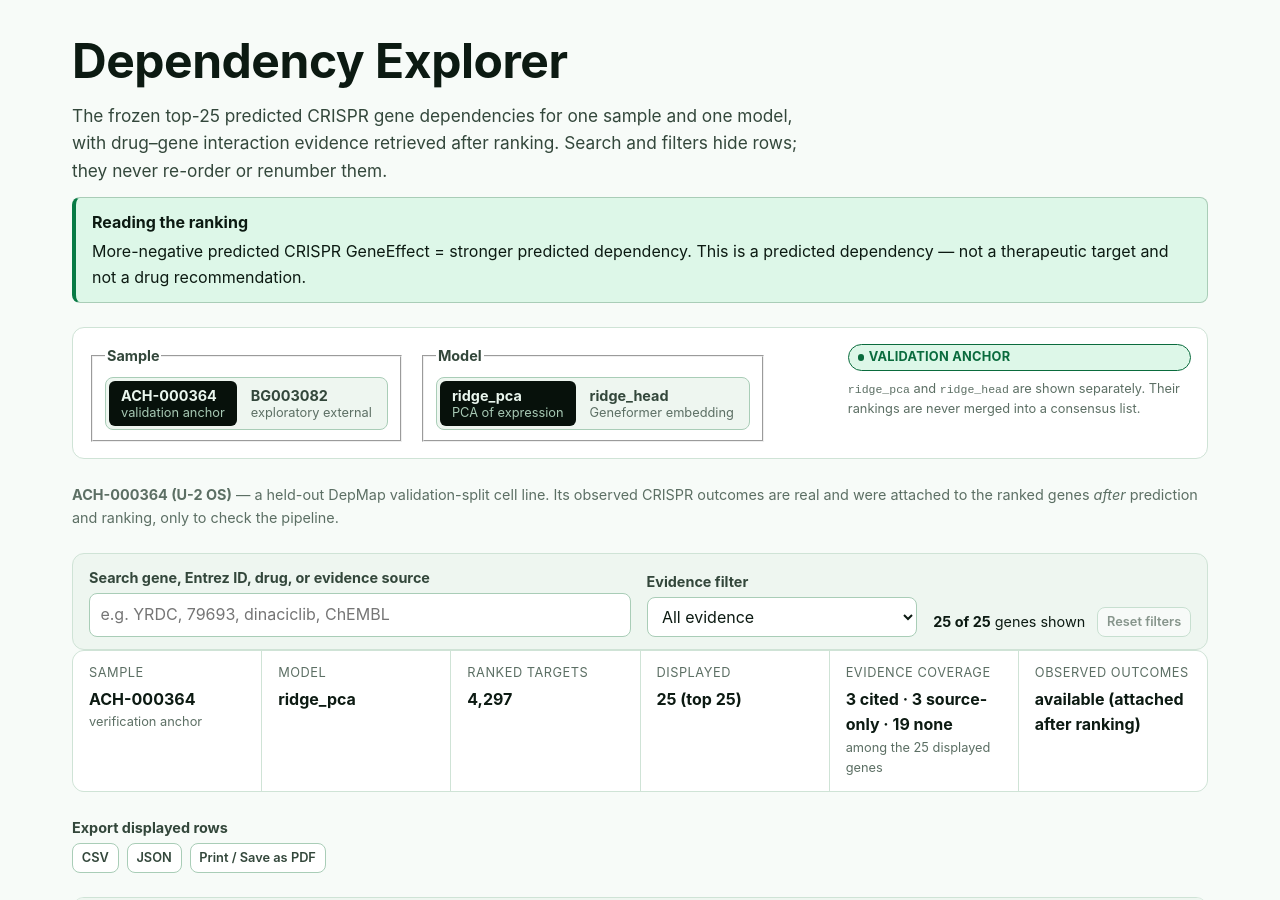
Test: Dependency Explorer › shows an accessible empty state when nothing matches
Step 1. Type "zzzznomatch" into the search field labelled "Search gene, Entrez ID, drug, or evidence source" → (360, 615), box [89, 594, 630, 637]
(page scrolled)
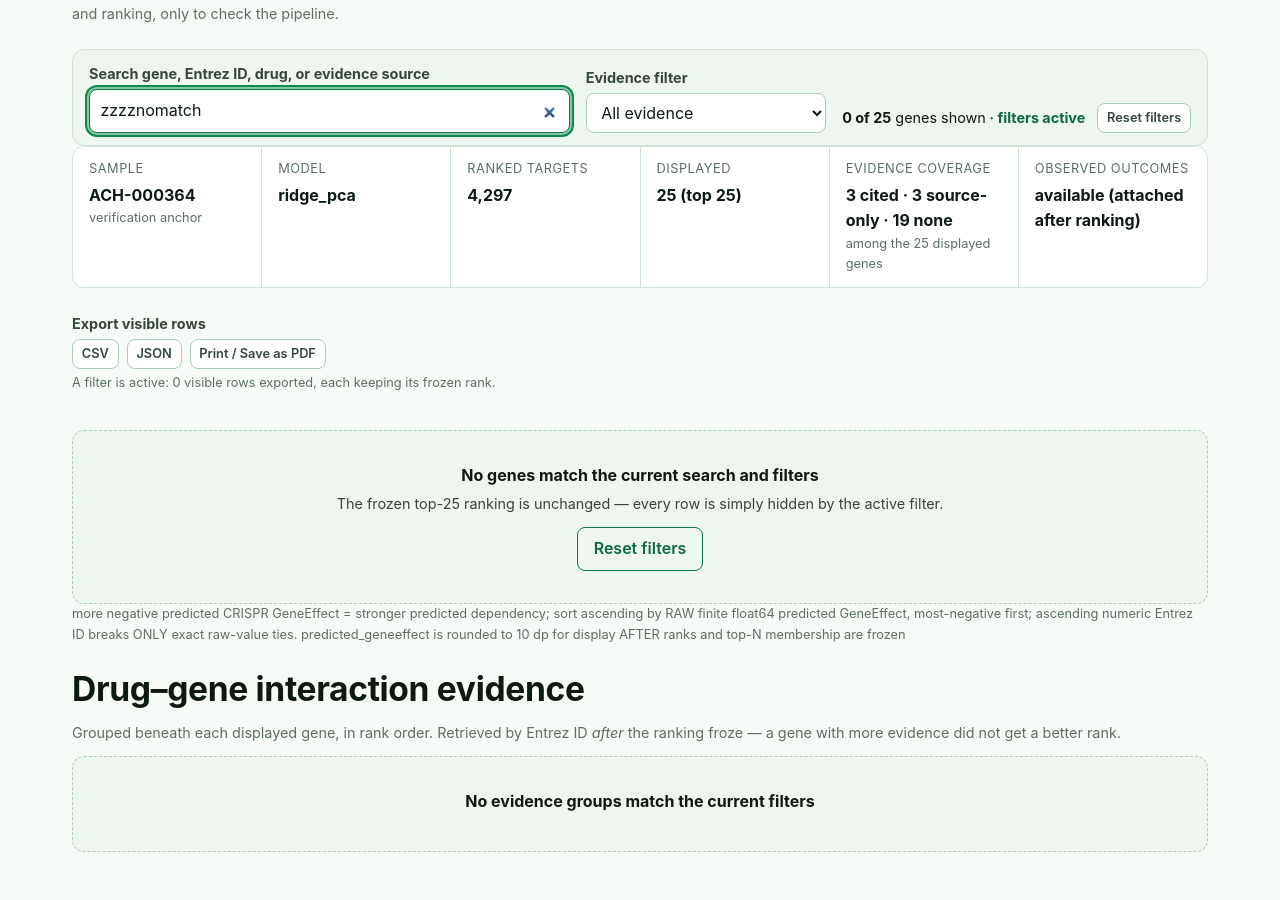
Result: the text "No genes match the current search and filters" is shown at [461, 465, 819, 485]
